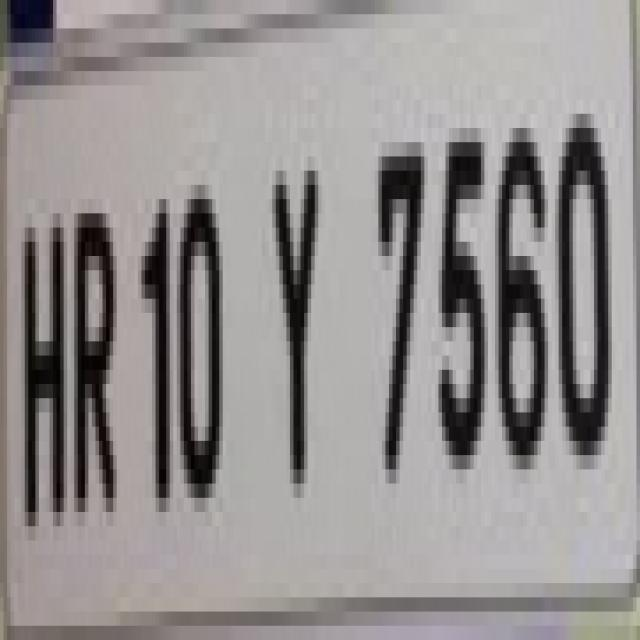0: (554, 84, 614, 474), (177, 180, 226, 520)
1: (138, 193, 176, 520)
5: (438, 110, 490, 503)
6: (496, 97, 552, 483)
7: (372, 92, 429, 506)
H: (21, 176, 67, 548)
R: (68, 178, 120, 544)
Y: (269, 133, 324, 512)
